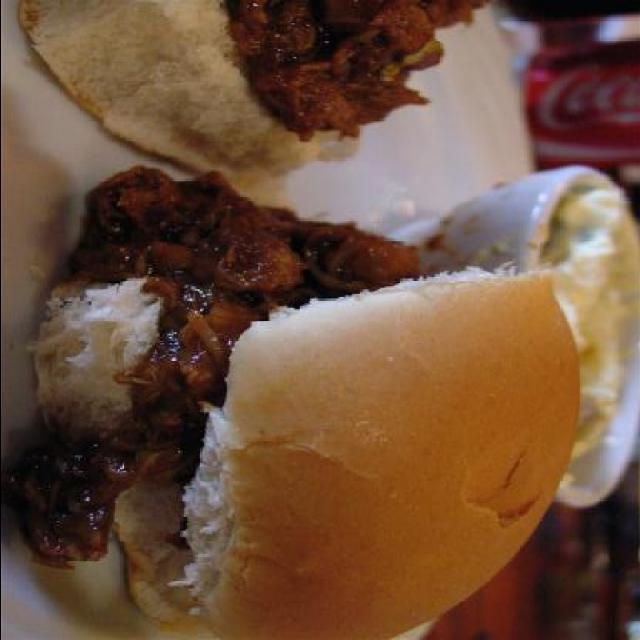Hamburger: (1, 170, 579, 639)
